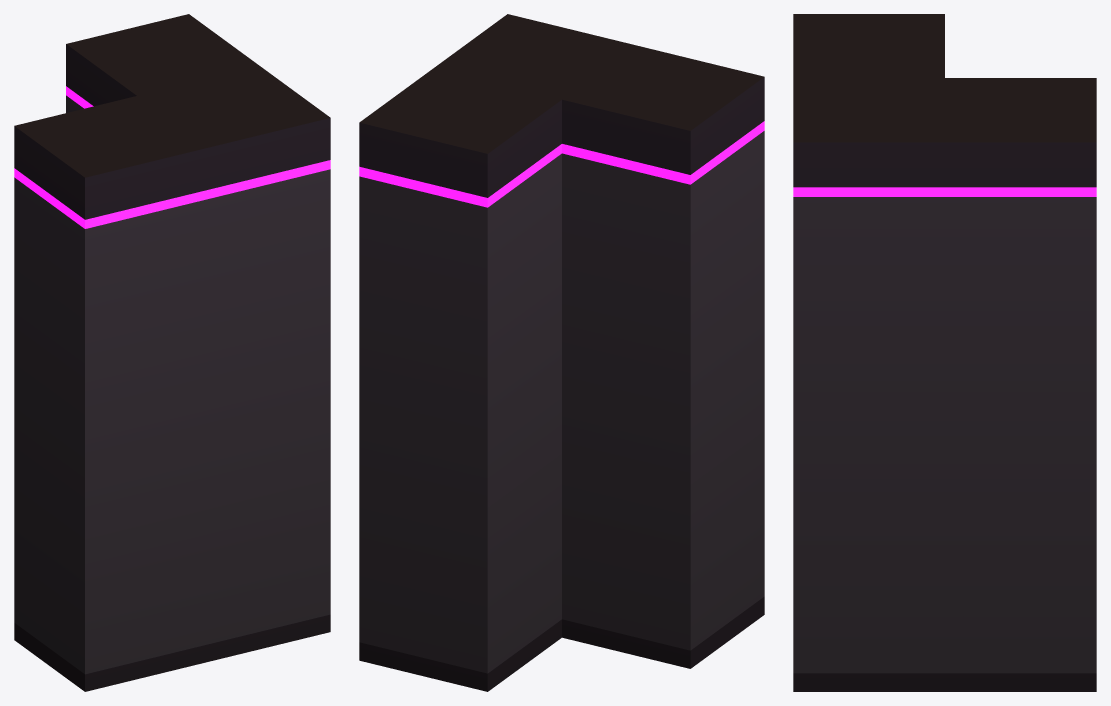
The model's file is WallCorner12.fbx.
3 views of the same model, side by side, from view 1: azimuth 30°, elevation 25°; view 2: azimuth 150°, elevation 25°; view 3: azimuth 270°, elevation 25° (orthographic). The views are drawn at different scales.
Visible parts, largest first — view 1: WallCorner12; view 2: WallCorner12; view 3: WallCorner12.
Boxes of the visible parts, x1,y1,x2,y2 form: WallCorner12: [14, 14, 330, 691]; WallCorner12: [359, 14, 764, 691]; WallCorner12: [793, 14, 1096, 691].
Size of the model in its own units: 200 by 400 by 200.
